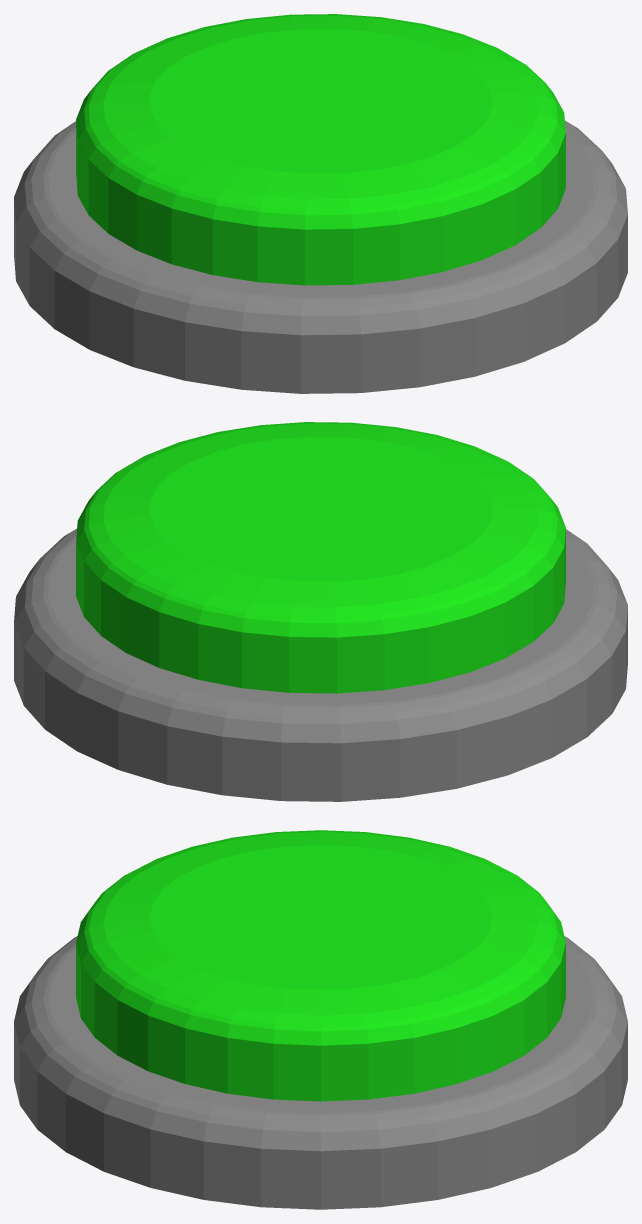
The model's file is remadeButton02.fbx.
3 views of the same model, one above another, from view 1: azimuth 30°, elevation 25°; view 2: azimuth 150°, elevation 25°; view 3: azimuth 270°, elevation 25° (orthographic).
Visible parts, largest first — view 1: Cylinder.001, Cylinder; view 2: Cylinder.001, Cylinder; view 3: Cylinder.001, Cylinder.
Part boxes in pixels (left/top/right/bottom): Cylinder.001: left=76, top=14, right=565, bottom=285; Cylinder: left=14, top=121, right=627, bottom=393; Cylinder.001: left=76, top=422, right=565, bottom=693; Cylinder: left=14, top=529, right=627, bottom=801; Cylinder.001: left=76, top=830, right=565, bottom=1101; Cylinder: left=14, top=936, right=627, bottom=1209.
Bounding box in the file's own units: 200 × 58.4 × 200.
